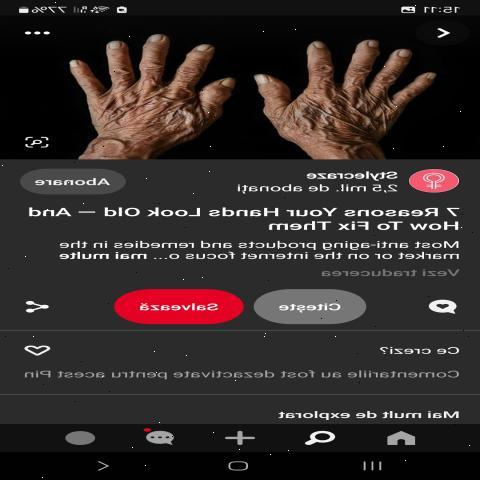Hands: (39, 20, 247, 155), (242, 24, 450, 158)
